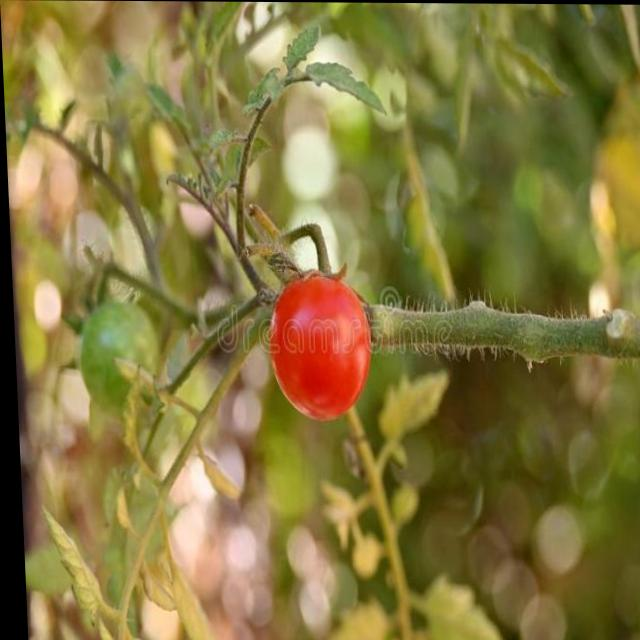kirmizi: (255, 273, 377, 432)
yesil: (72, 278, 165, 435)
